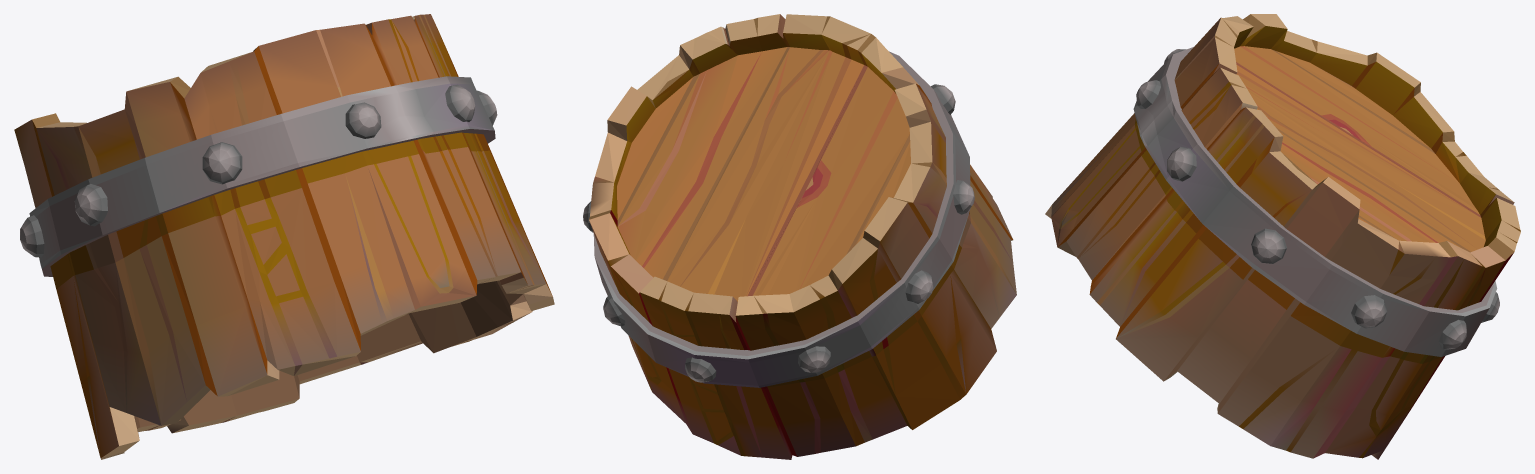
The model's file is GingerPirateHelmet.glb.
3 renders of one model, left to right at view 1: azimuth 30°, elevation 25°; view 2: azimuth 150°, elevation 25°; view 3: azimuth 270°, elevation 25°, orthographic. The views are drawn at different scales.
Visible parts, largest first — view 1: GingerPirateHelmet; view 2: GingerPirateHelmet; view 3: GingerPirateHelmet.
Boxes of the visible parts, x1,y1,x2,y2 form: GingerPirateHelmet: [14, 14, 554, 459]; GingerPirateHelmet: [583, 14, 1016, 459]; GingerPirateHelmet: [1045, 14, 1520, 459].
Size of the model in its own units: 0.5634 by 0.5908 by 0.6369.
